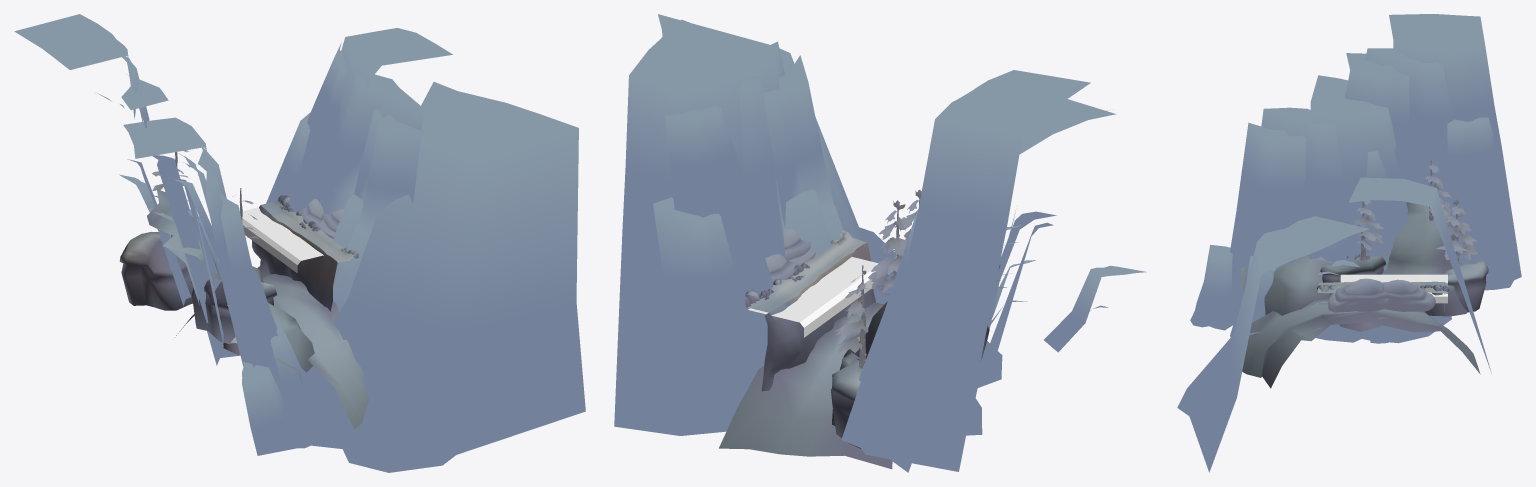
The model's file is Arctic_Narrows_Left_Transition_Pre_A.glb.
3 renders of one model, left to right at view 1: azimuth 30°, elevation 25°; view 2: azimuth 150°, elevation 25°; view 3: azimuth 270°, elevation 25°, orthographic. The views are drawn at different scales.
Visible parts, largest first — view 1: Arctic_Narrows_Left_Transition_Pre_A, inv_fill; view 2: Arctic_Narrows_Left_Transition_Pre_A, inv_fill; view 3: Arctic_Narrows_Left_Transition_Pre_A, inv_fill.
Boxes of the visible parts, x1,y1,x2,y2 form: Arctic_Narrows_Left_Transition_Pre_A: [14, 14, 585, 472]; inv_fill: [242, 207, 323, 273]; Arctic_Narrows_Left_Transition_Pre_A: [614, 14, 1146, 472]; inv_fill: [748, 257, 878, 337]; Arctic_Narrows_Left_Transition_Pre_A: [1177, 14, 1521, 472]; inv_fill: [1340, 274, 1447, 303].
Size of what is drawn, in the model's own units: 31.57 by 25.28 by 26.63.
